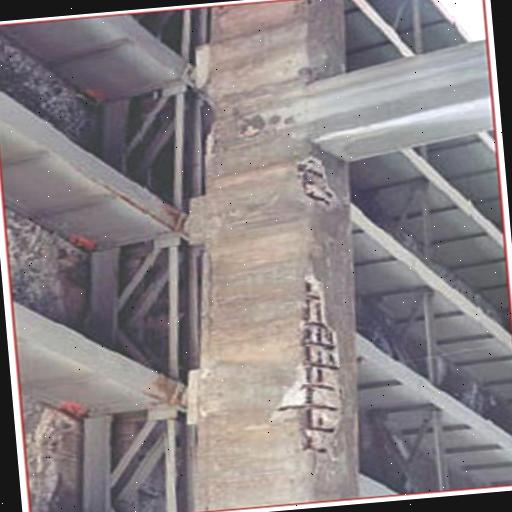spalling: (275, 272, 353, 468), (285, 151, 340, 214)
